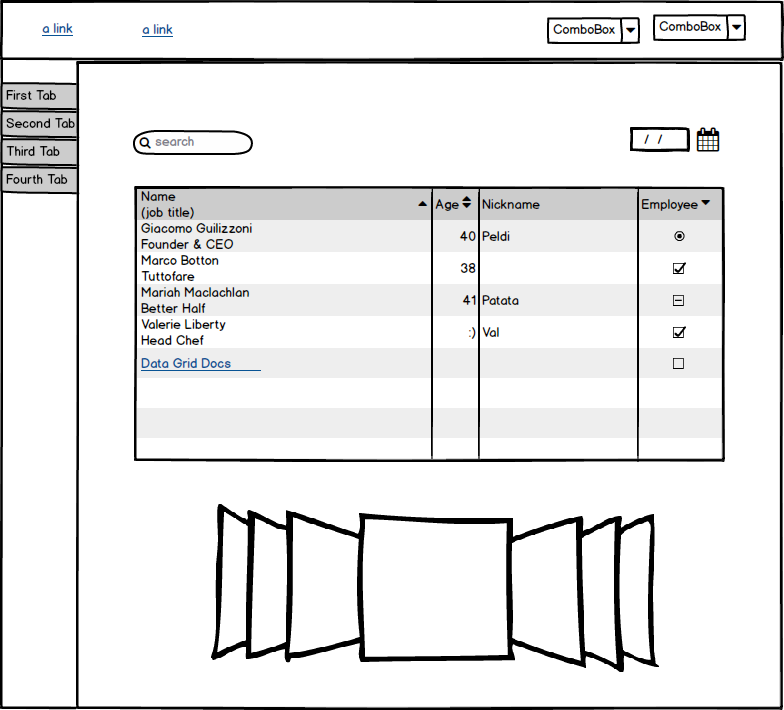date_picker: (617, 122, 727, 157)
navlink: (34, 16, 90, 40), (133, 18, 184, 44)
search: (127, 121, 256, 160)
select_box: (651, 10, 753, 46), (540, 14, 646, 48)
sidebar: (1, 76, 83, 198)
slideshow: (201, 493, 663, 681)
table: (126, 182, 732, 467)
